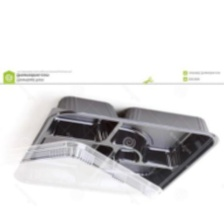plastic_box: (0, 91, 224, 224)
